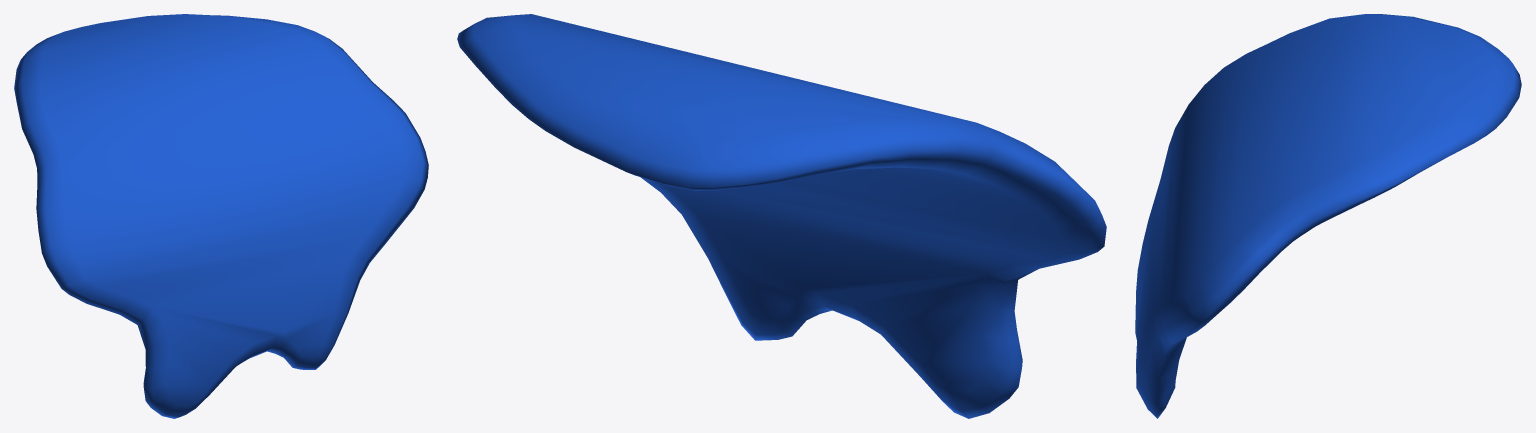
Rendered from Prop_Moss_4_curve.fbx.
The picture shows the model from 3 angles, left to right: view 1: azimuth 30°, elevation 25°; view 2: azimuth 150°, elevation 25°; view 3: azimuth 270°, elevation 25°; orthographic projection. The views are drawn at different scales.
Parts seen in each view (by area): view 1: moss_006; view 2: moss_006; view 3: moss_006.
Boxes of the visible parts, x1=… form: moss_006: x1=14, y1=14, x2=428, y2=418; moss_006: x1=457, y1=14, x2=1106, y2=418; moss_006: x1=1135, y1=14, x2=1521, y2=418.
Bounding box in the file's own units: 1095 × 757 × 812.
